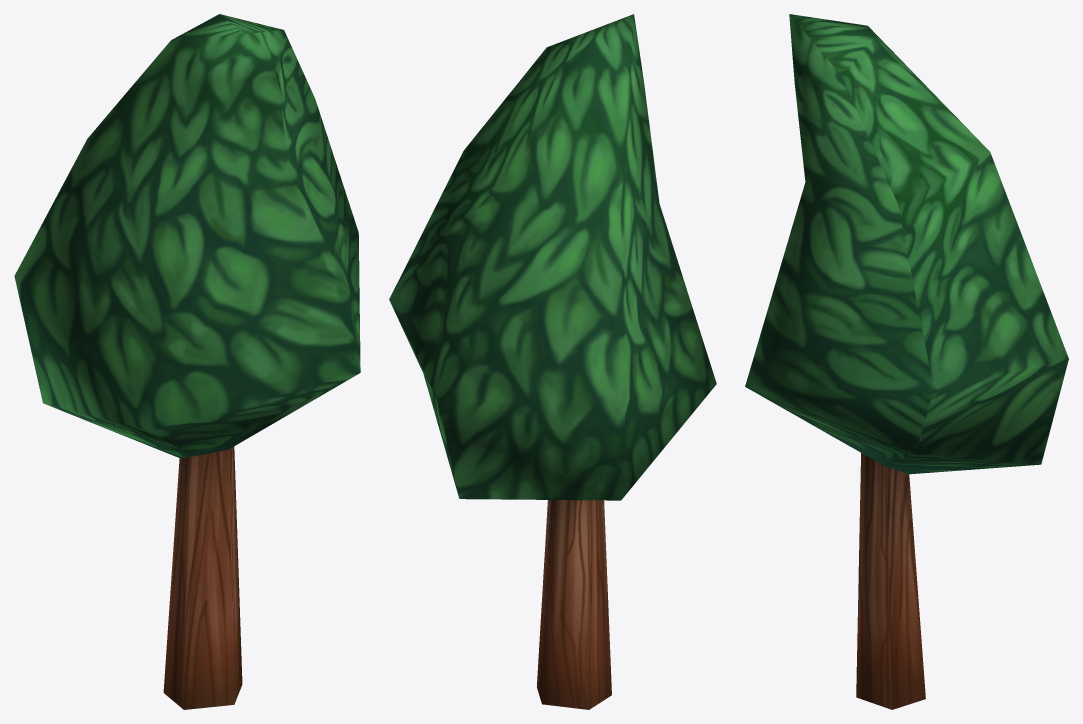
The model's file is Trimmed_small_tree.fbx.
3 renders of one model, left to right at view 1: azimuth 30°, elevation 25°; view 2: azimuth 150°, elevation 25°; view 3: azimuth 270°, elevation 25°, orthographic. The views are drawn at different scales.
Visible parts, largest first — view 1: Trimmed_small_tree; view 2: Trimmed_small_tree; view 3: Trimmed_small_tree.
Boxes of the visible parts, x1=… form: Trimmed_small_tree: x1=14, y1=14, x2=360, y2=709; Trimmed_small_tree: x1=389, y1=14, x2=716, y2=709; Trimmed_small_tree: x1=745, y1=14, x2=1068, y2=709.
Size of the model in its own units: 47.53 by 106 by 46.44.
